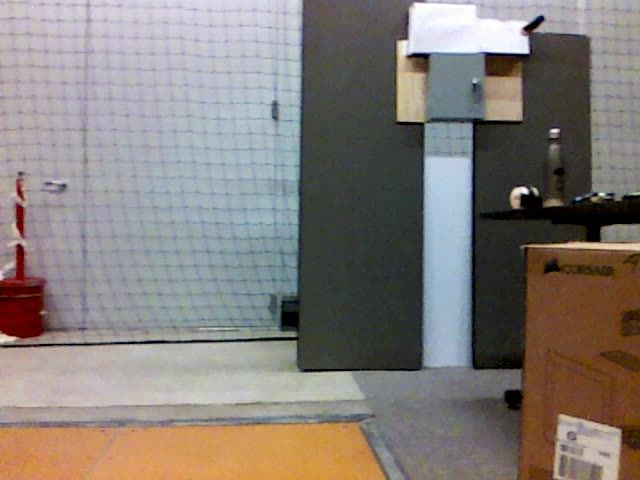box: (522, 239, 640, 480)
